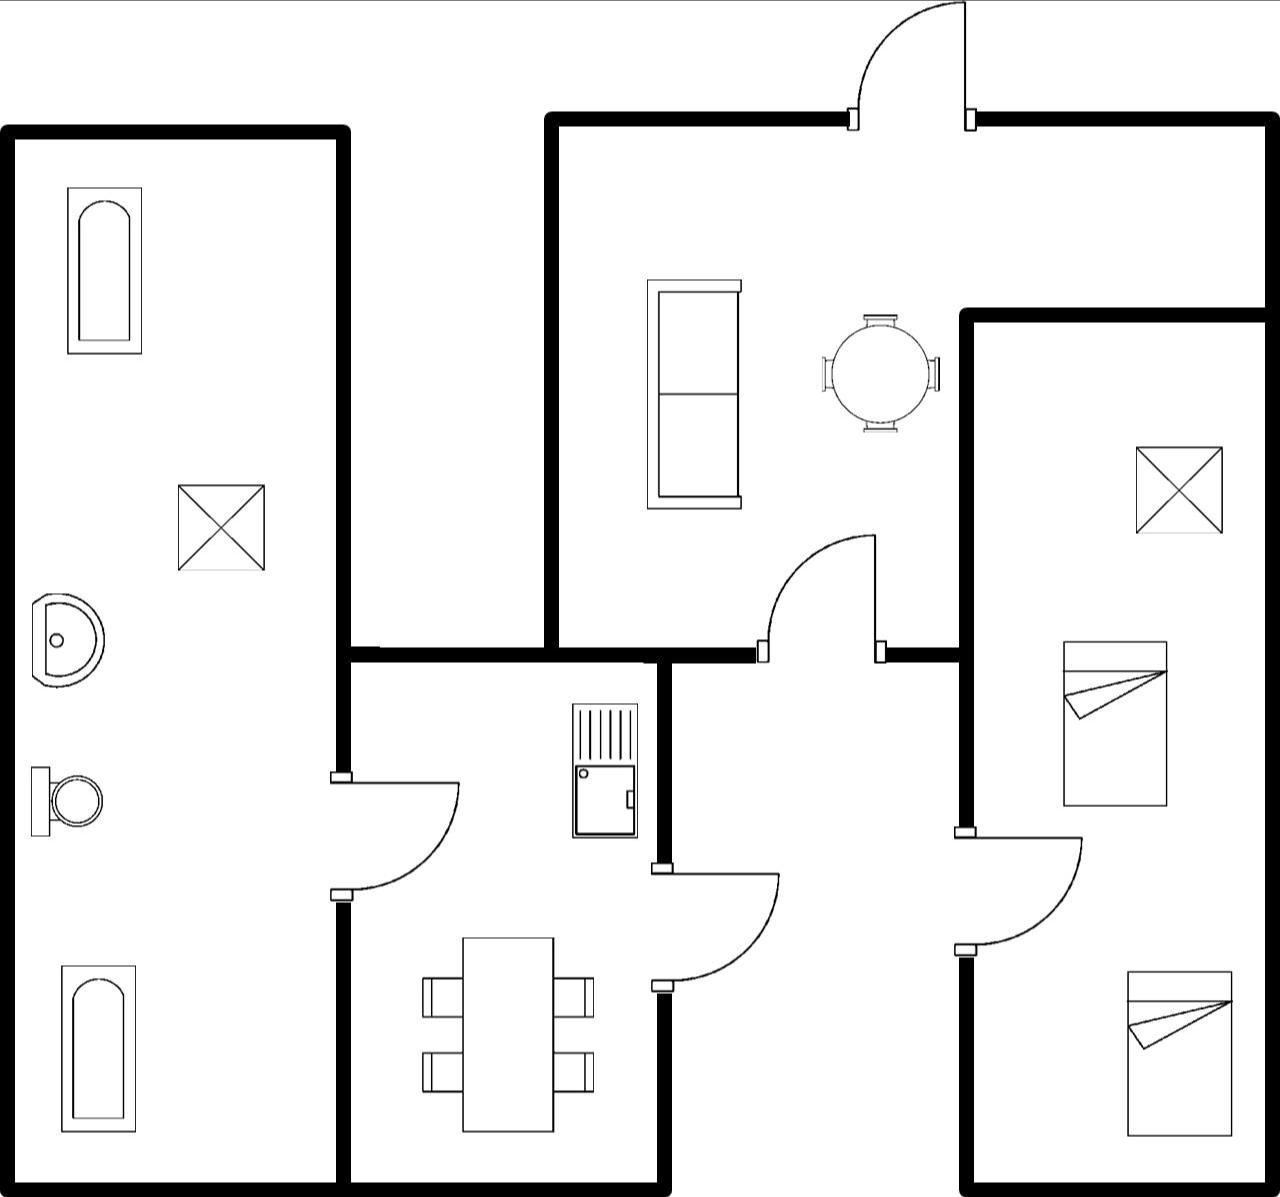bed: (1119, 960, 1241, 1146), (1053, 631, 1172, 816)
dining_table: (416, 924, 602, 1138)
round_table: (811, 305, 946, 441)
sink: (561, 694, 644, 848)
sofa: (637, 269, 750, 521)
toilet: (22, 754, 110, 846)
tub: (58, 177, 151, 363), (54, 956, 146, 1140)
